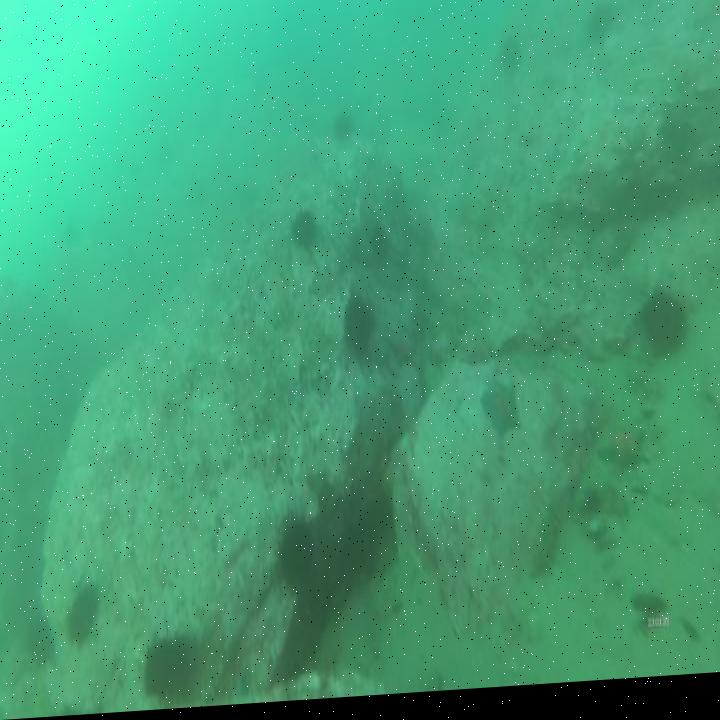echinus: (144, 642, 191, 702), (279, 526, 313, 588), (66, 590, 98, 640), (345, 301, 372, 359), (291, 213, 315, 249), (589, 16, 613, 47), (501, 42, 519, 78), (335, 120, 353, 144)
holothurian: (532, 497, 564, 593)
starfish: (644, 297, 685, 363), (597, 425, 644, 481), (483, 387, 521, 439), (390, 337, 415, 371)
